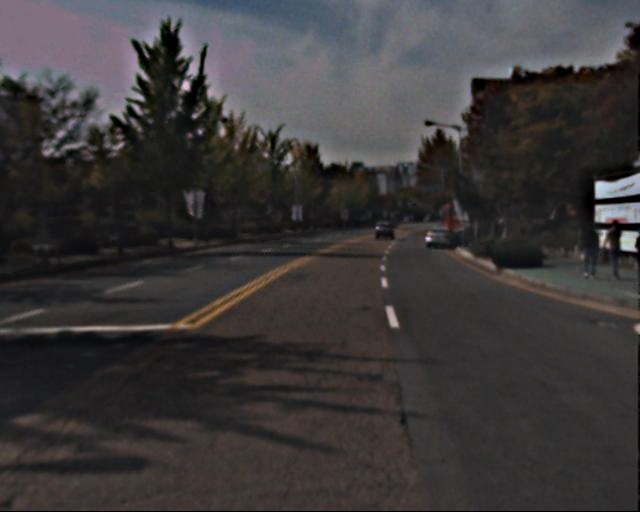person: (573, 219, 599, 282), (599, 217, 625, 280), (624, 232, 640, 285)
